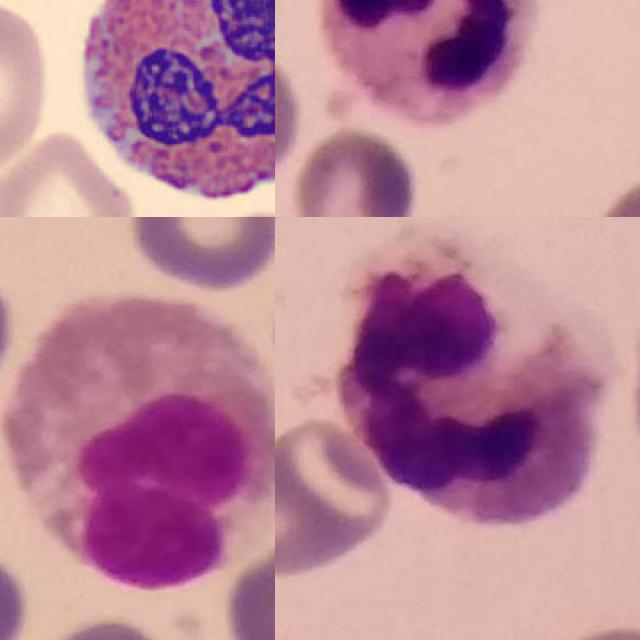Eosinophil: (5, 291, 275, 594), (59, 0, 275, 212)
Neutrophil: (331, 231, 600, 525), (316, 0, 538, 119)
RBC: (0, 126, 141, 217), (0, 0, 54, 179)
